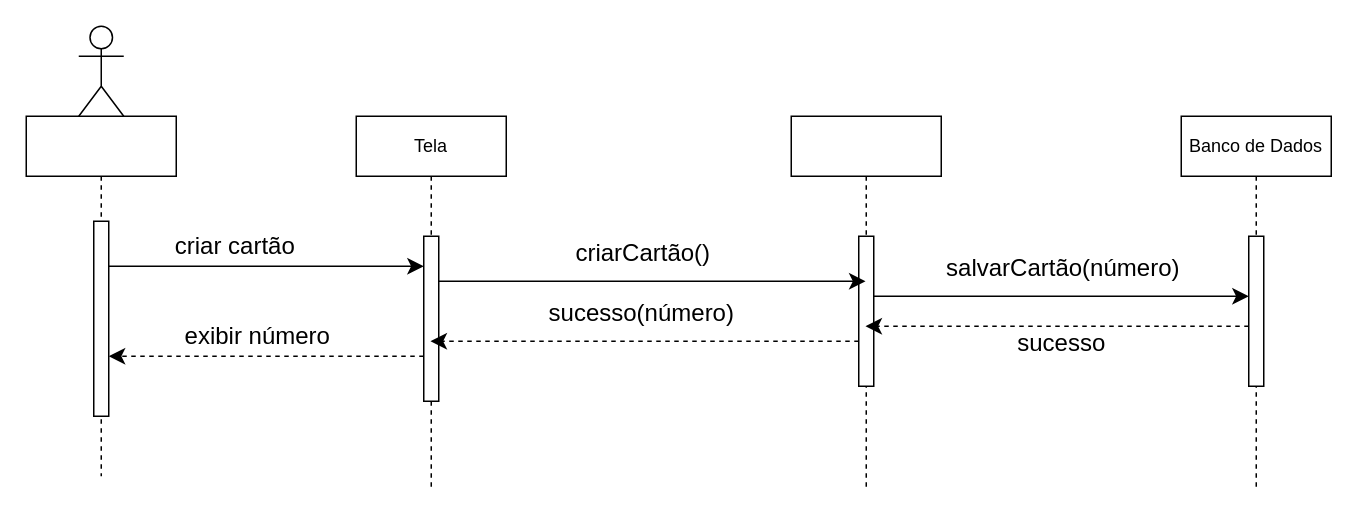
The diagram is 1358 pixels wide and 518 high, and some of its shapes have lost their labels. Each missing label, with the centre of its shape:
"Cliente" belongs at pixel 100 70.
"Negócio" belongs at pixel 865 303.
